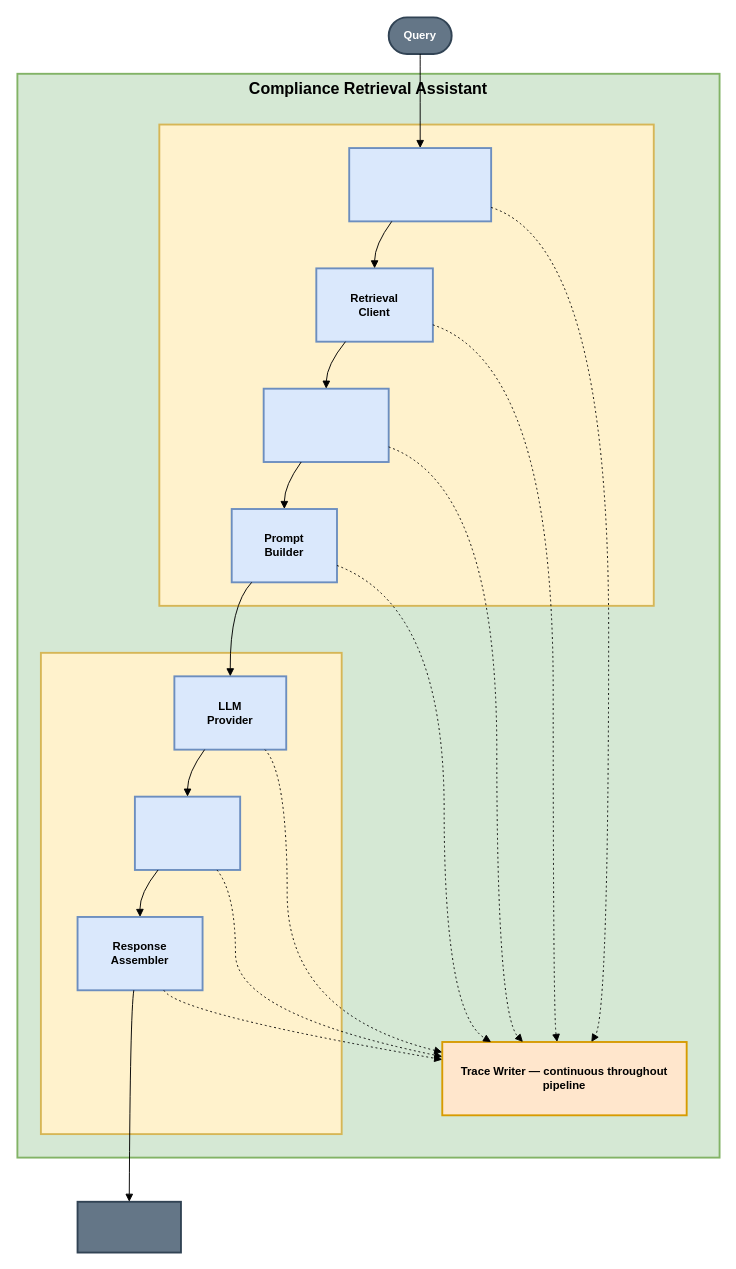
This 736x1269 diagram has some shape labels left out. Each missing label, with the box of its shape:
Grounding Checker: (262, 387, 389, 462)
Output: (76, 1200, 181, 1253)
Query Preprocessor: (348, 147, 492, 222)
Refusal Gate: (133, 795, 241, 870)
